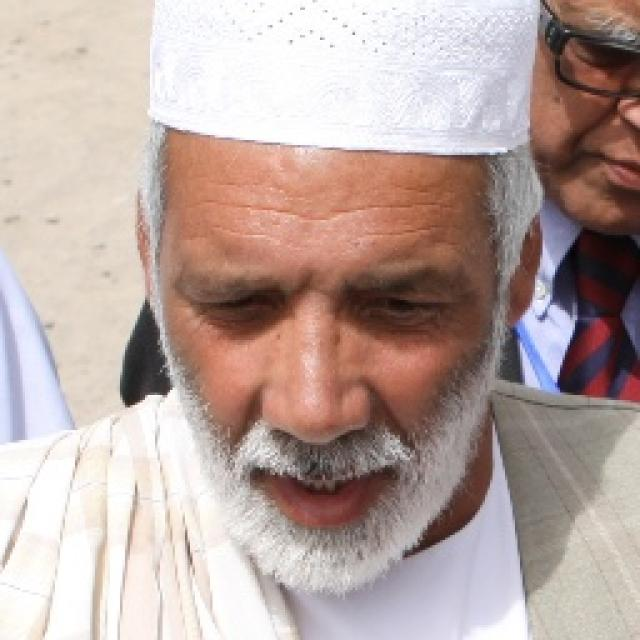earlobe: (506, 214, 544, 331), (134, 188, 160, 318)
